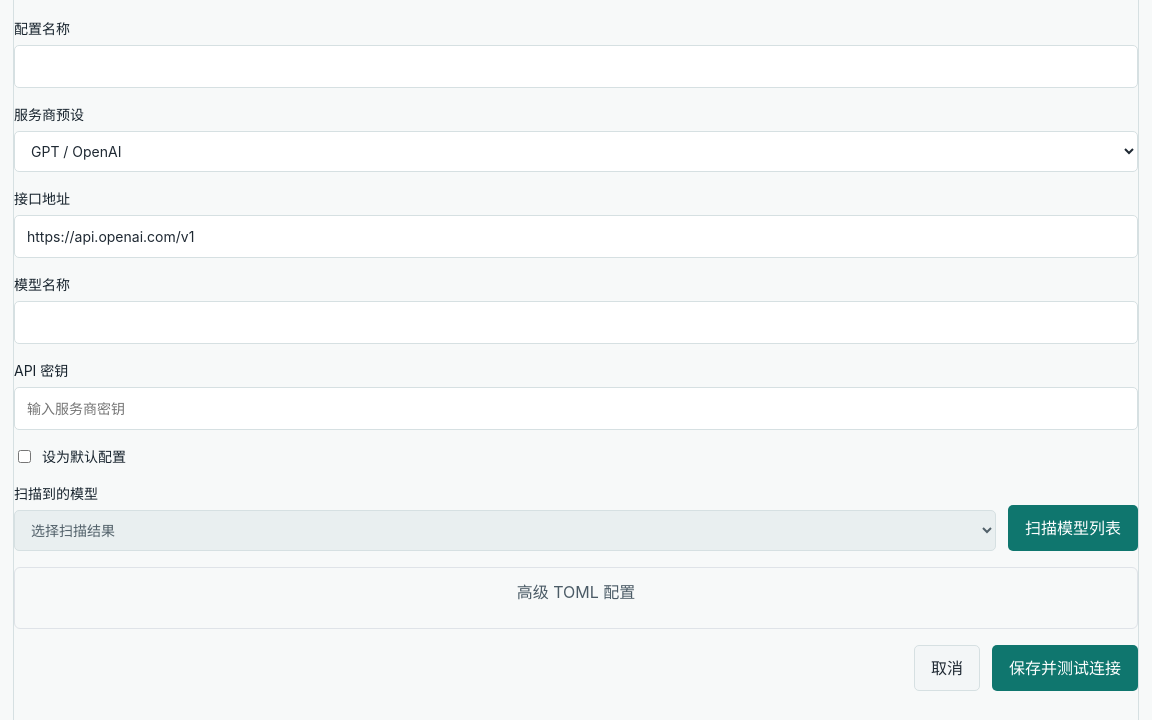
Test case: ModelProfileForm › switches the provider preset back to OpenAI when the canonical endpoint is restored
Replace the text in the field with test id "endpoint-url" with "https://api.deepseek.com/v1" at (576, 236), box [14,215,1138,258]
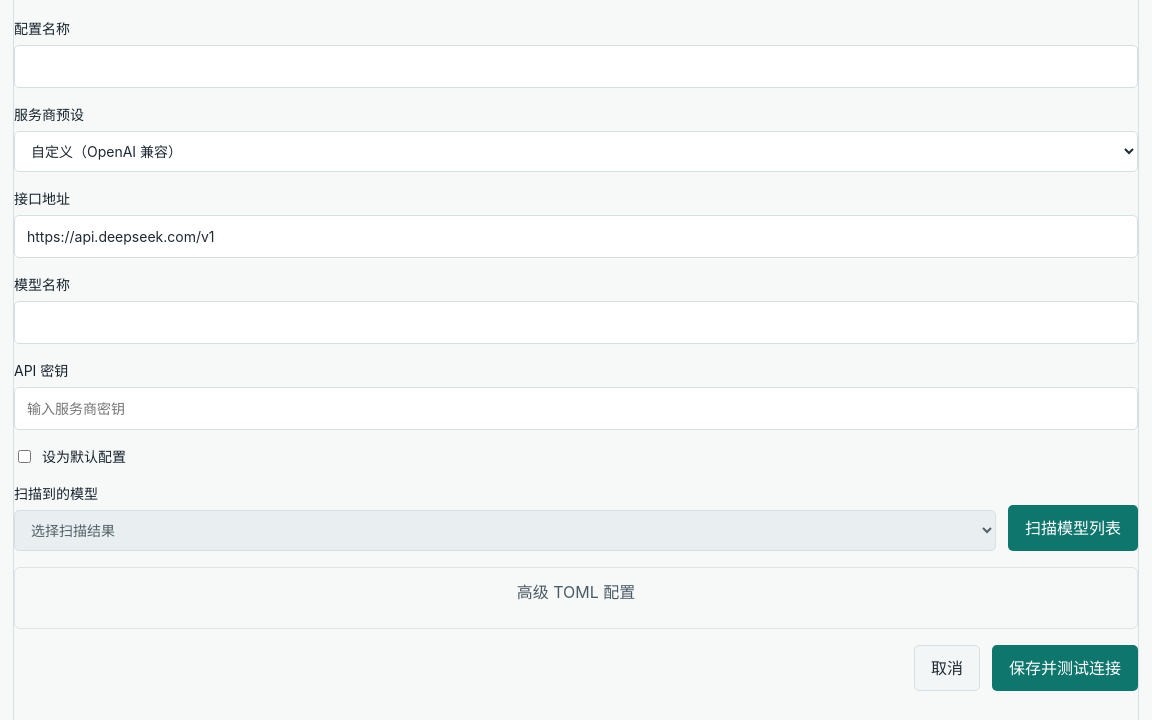
Replace the text in the field with test id "endpoint-url" with "https://api.openai.com/v1" at (576, 236), box [14,215,1138,258]
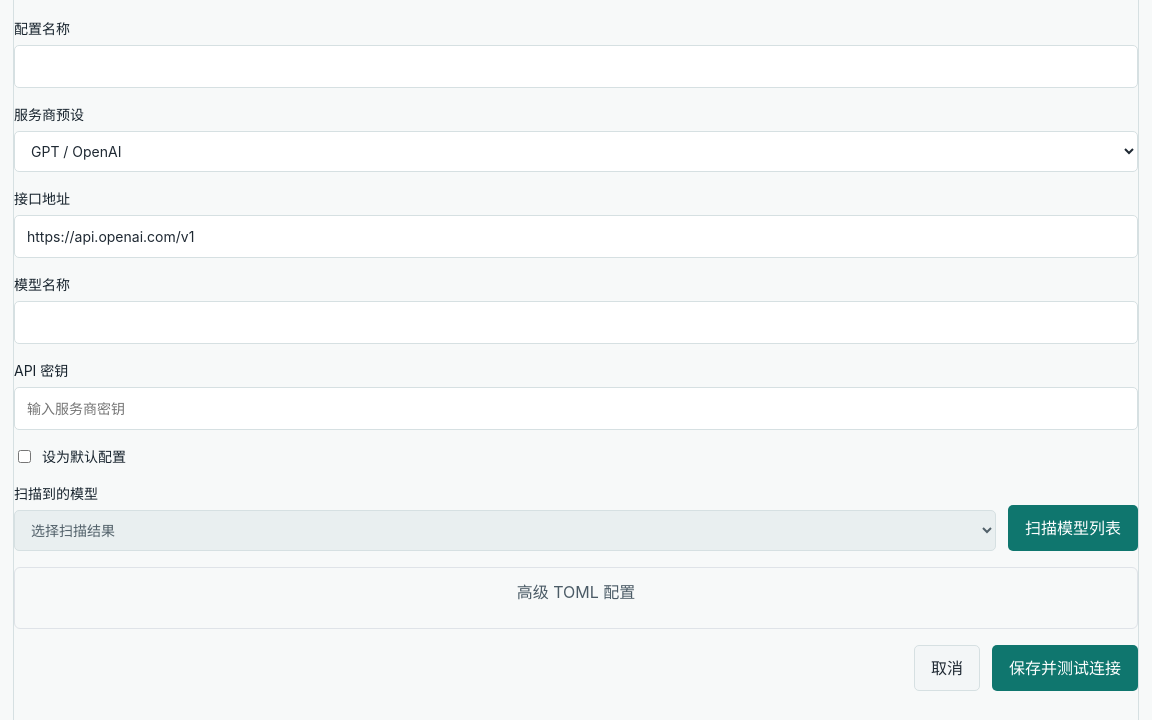
Expected: the dropdown with test id "provider-preset" shows "GPT / OpenAI", [14,131,1138,172]
